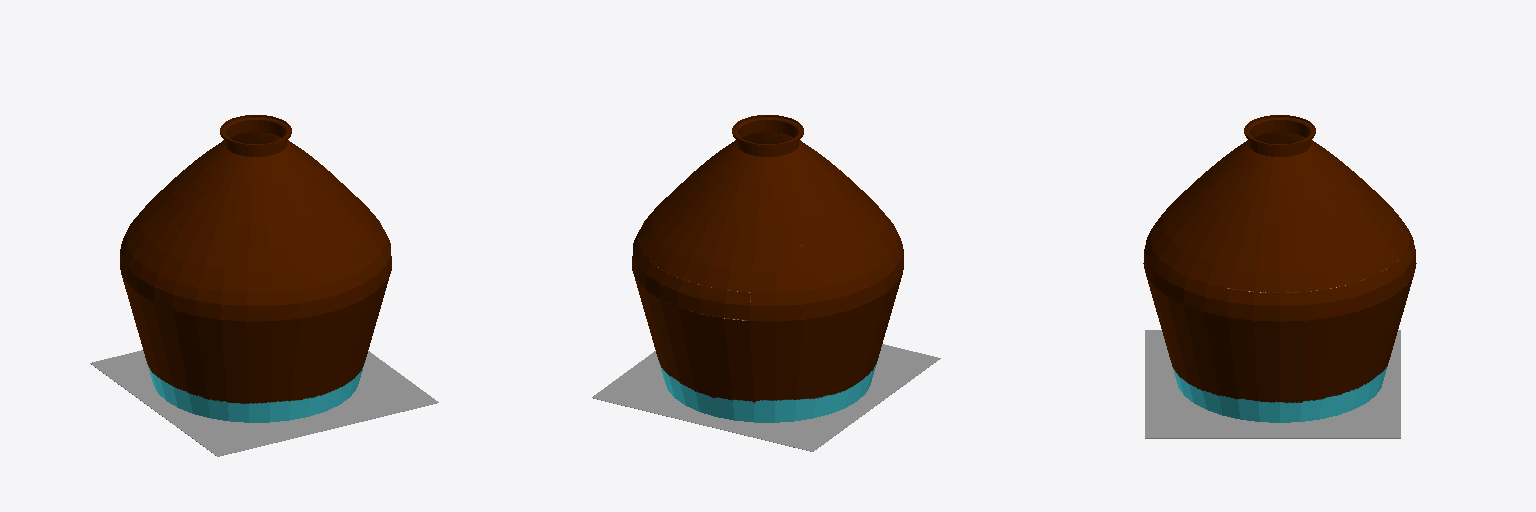
3 renders of one model, left to right at view 1: azimuth 30°, elevation 25°; view 2: azimuth 150°, elevation 25°; view 3: azimuth 270°, elevation 25°, orthographic.
Parts seen in each view (by area): view 1: Circle, Cube; view 2: Circle, Cube; view 3: Circle, Cube.
Part boxes in pixels (left/top/right/bottom): Circle: left=120, top=115, right=391, bottom=422; Cube: left=90, top=350, right=438, bottom=456; Circle: left=632, top=115, right=903, bottom=422; Cube: left=592, top=344, right=940, bottom=451; Circle: left=1143, top=115, right=1416, bottom=422; Cube: left=1145, top=330, right=1400, bottom=438.
Size of the model in its own units: 0.7864 by 0.8006 by 0.7864.
Materials: 2 (1 with a texture image).